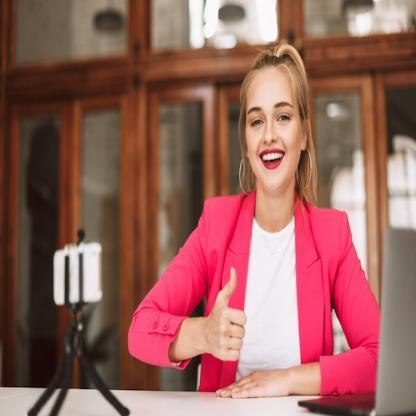thumb_up: (209, 262, 248, 367)
